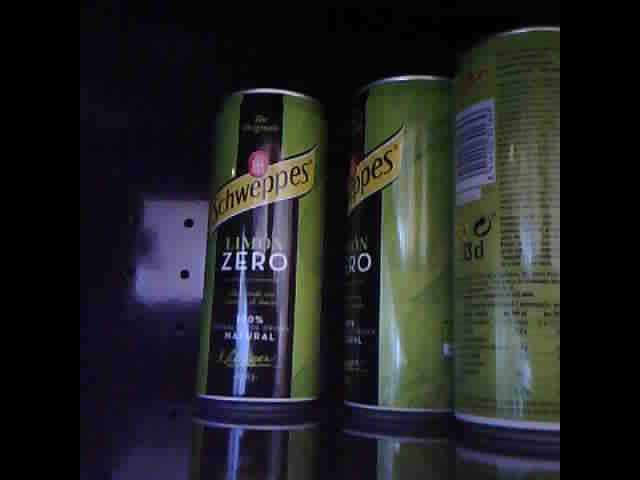schweppes: (448, 19, 559, 436), (193, 86, 326, 412), (326, 68, 448, 418)
